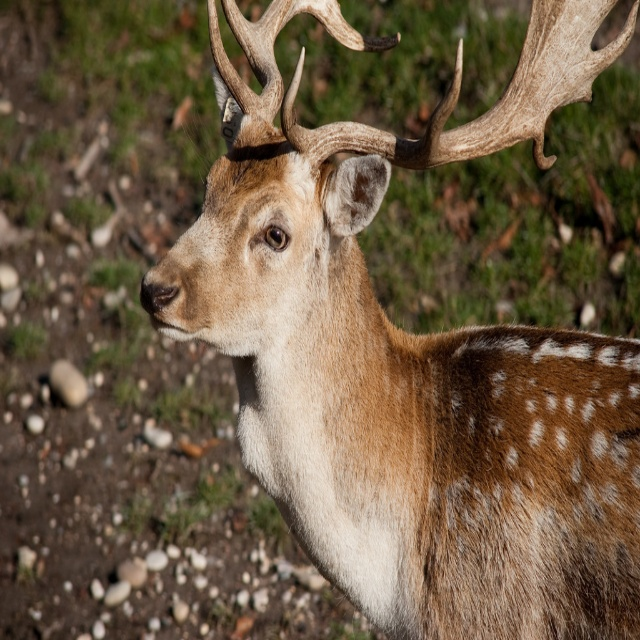Deer: (135, 0, 636, 639)
